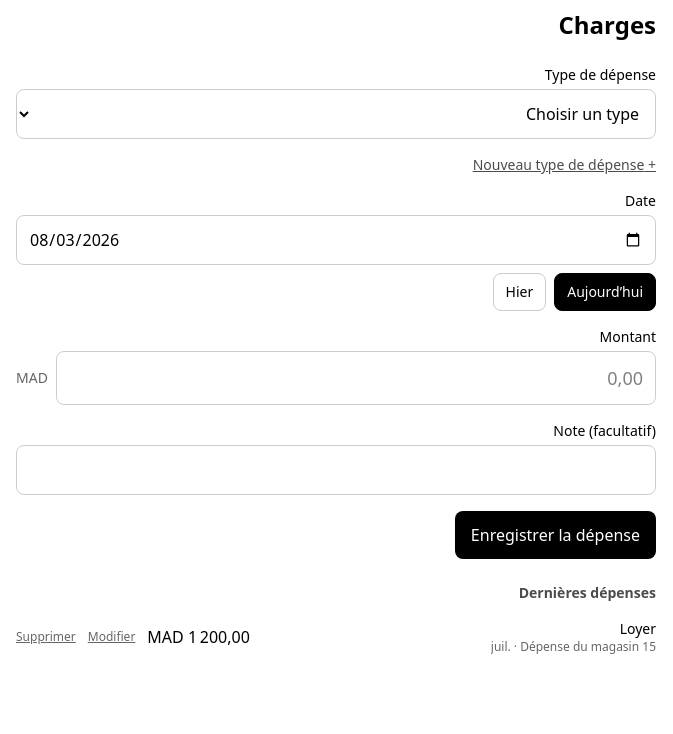
it: editing an existing charge (domain-spec §8.5) › loads the record into the form and says so
Click the button with aria-label "Modifier — Loyer" at (112, 637), box [88, 629, 135, 645]
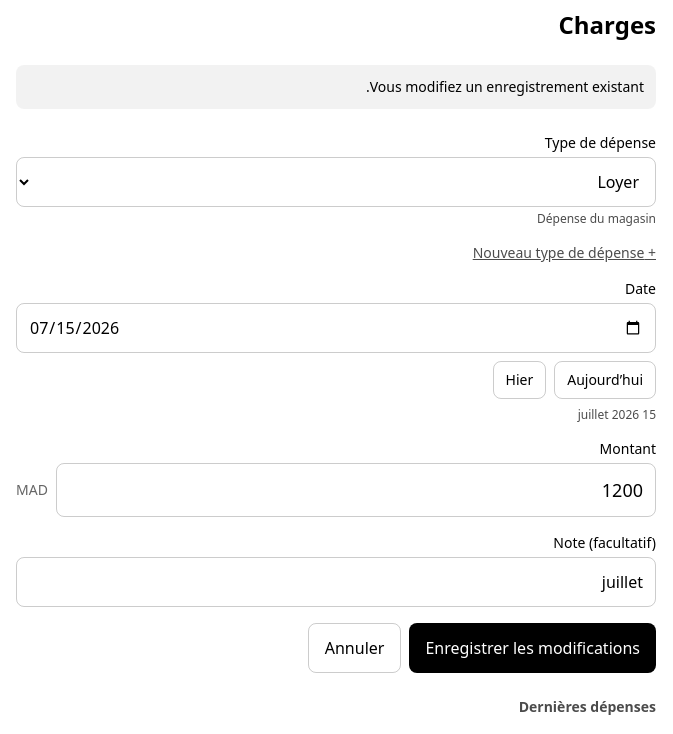
Expected: the field labelled "Montant" holds "1200", [56, 463, 656, 517]
Expected: the date field labelled "Date" holds "2026-07-15", [16, 303, 656, 353]
Expected: the dropdown labelled "Type de dépense" shows "Loyer", [16, 157, 656, 207]
